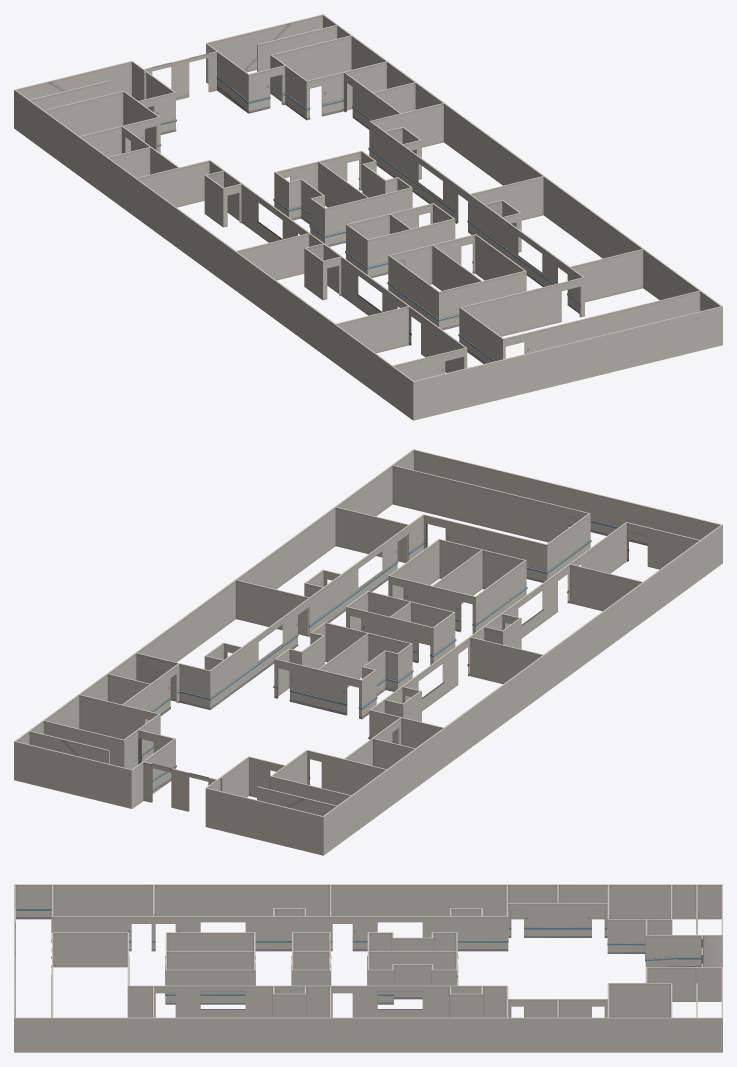
The model's file is aws_robomaker_hospital_floor_01_walls_visual_new.dae.
3 renders of one model, top to bottom at view 1: azimuth 30°, elevation 25°; view 2: azimuth 150°, elevation 25°; view 3: azimuth 270°, elevation 25°, orthographic. The views are drawn at different scales.
Parts seen in each view (by area): view 1: aws_robomaker_hospital_floor_01_walls_visual, aws_robomaker_hospital_floor_01_handrail_visual, aws_robomaker_hospital_floor_01_bumprail_visual; view 2: aws_robomaker_hospital_floor_01_walls_visual, aws_robomaker_hospital_floor_01_handrail_visual, aws_robomaker_hospital_floor_01_bumprail_visual; view 3: aws_robomaker_hospital_floor_01_walls_visual, aws_robomaker_hospital_floor_01_handrail_visual, aws_robomaker_hospital_floor_01_bumprail_visual.
Boxes of the visible parts, x1,y1,x2,y2 form: aws_robomaker_hospital_floor_01_walls_visual: (14, 14, 722, 420); aws_robomaker_hospital_floor_01_handrail_visual: (157, 76, 579, 361); aws_robomaker_hospital_floor_01_bumprail_visual: (160, 86, 579, 363); aws_robomaker_hospital_floor_01_walls_visual: (14, 449, 722, 855); aws_robomaker_hospital_floor_01_handrail_visual: (142, 517, 646, 781); aws_robomaker_hospital_floor_01_bumprail_visual: (152, 525, 647, 791); aws_robomaker_hospital_floor_01_walls_visual: (14, 884, 722, 1052); aws_robomaker_hospital_floor_01_handrail_visual: (15, 908, 701, 1017); aws_robomaker_hospital_floor_01_bumprail_visual: (15, 917, 701, 1017).
Size of the model in its own units: 25.12 by 56.12 by 3.
Materials: 4 (4 with a texture image).
